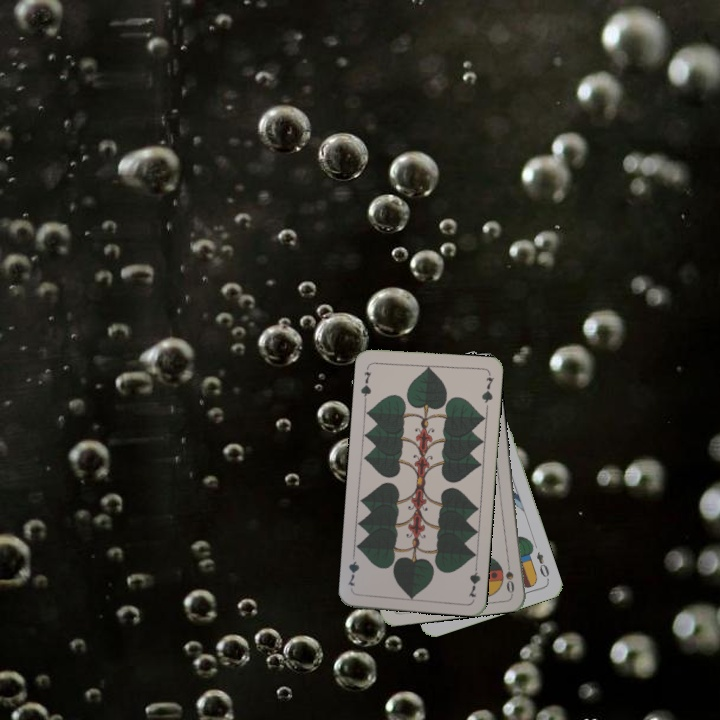EO: (532, 548, 552, 583)
G7: (464, 559, 483, 600), (357, 363, 374, 403)
SO: (501, 555, 517, 596)
